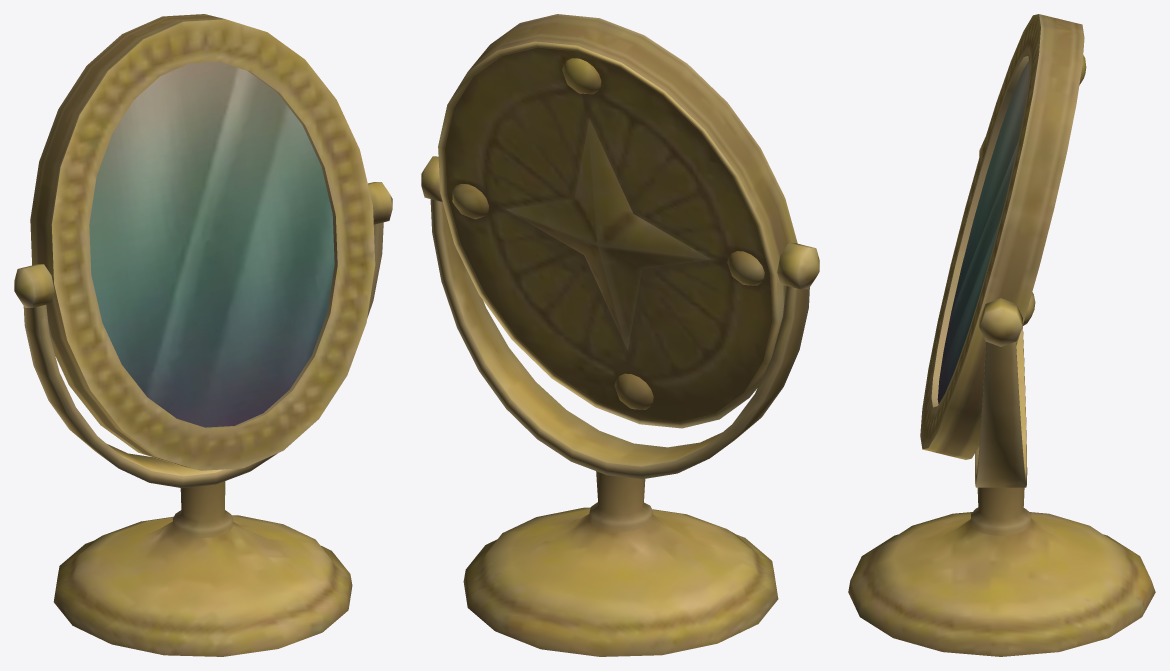
3 views of the same model, side by side, from view 1: azimuth 30°, elevation 25°; view 2: azimuth 150°, elevation 25°; view 3: azimuth 270°, elevation 25° (orthographic). The views are drawn at different scales.
Bounding box in the file's own units: 5.92 × 8.34 × 4.11.
2 materials, 2 textured.
